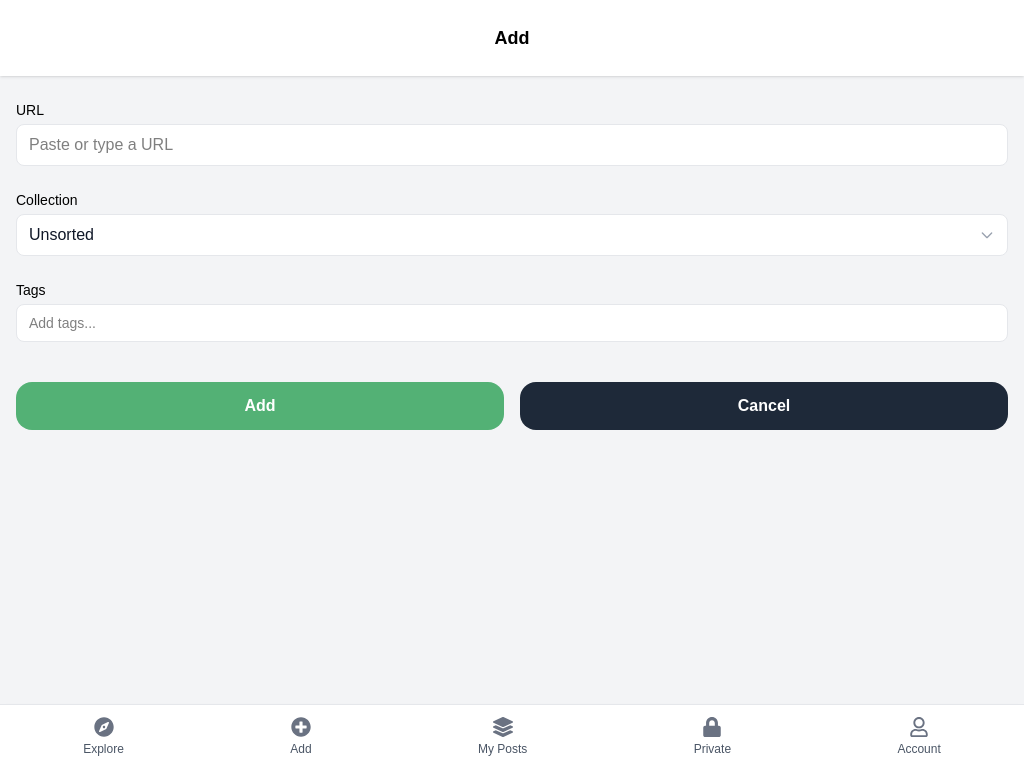
it: AddPage › adds tags when space or enter is pressed
Type "react" into the field with placeholder "Add tags...".
click(512, 323); type("react")  # box x1=29 y1=313 x2=995 y2=333
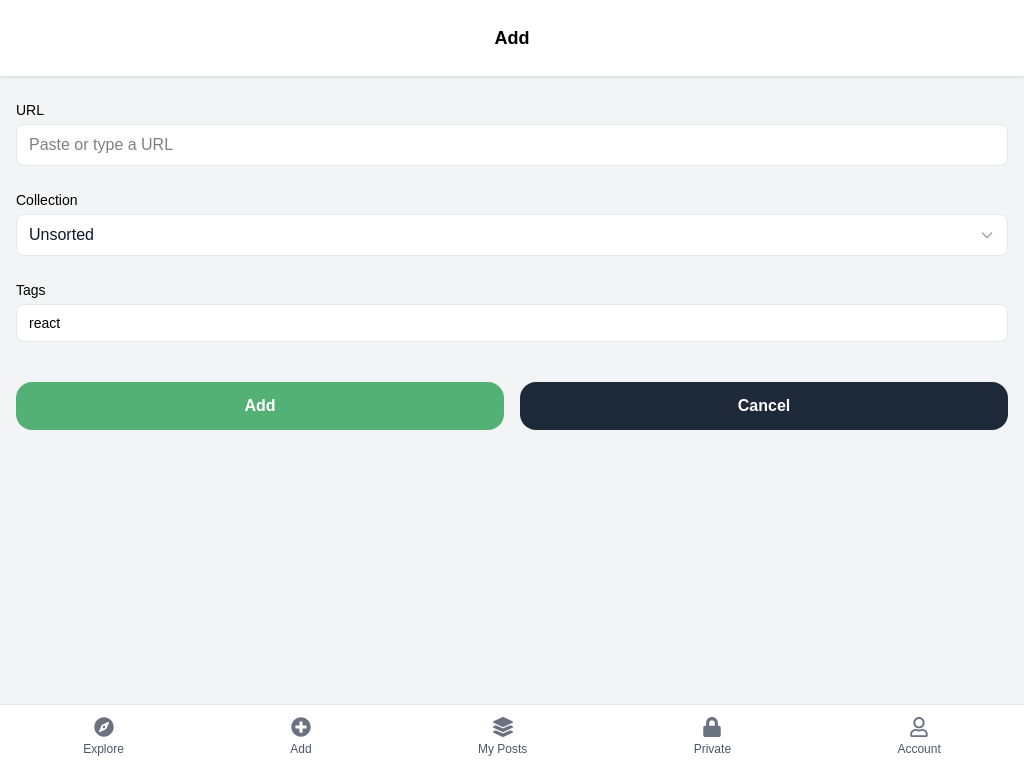
Press Space in the field with placeholder "Add tags...", box x1=29 y1=313 x2=995 y2=333
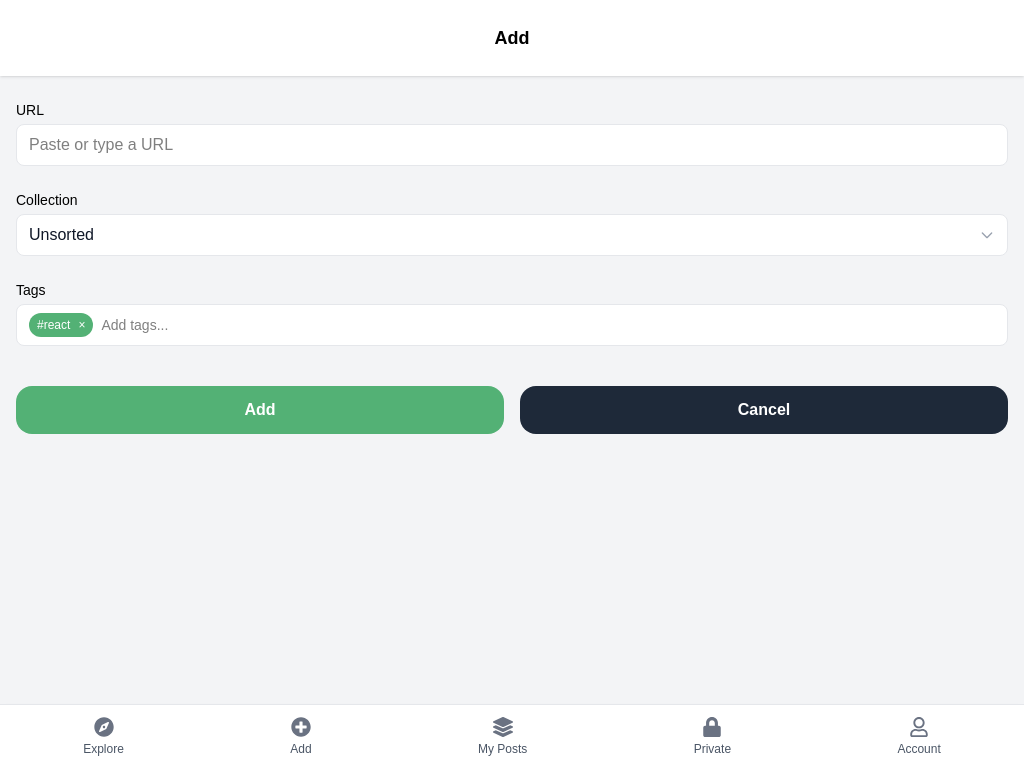
Result: the text "#react" is shown at x1=29 y1=313 x2=93 y2=337
